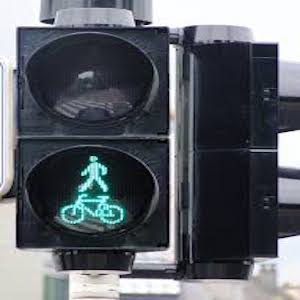green: (57, 154, 136, 228)
